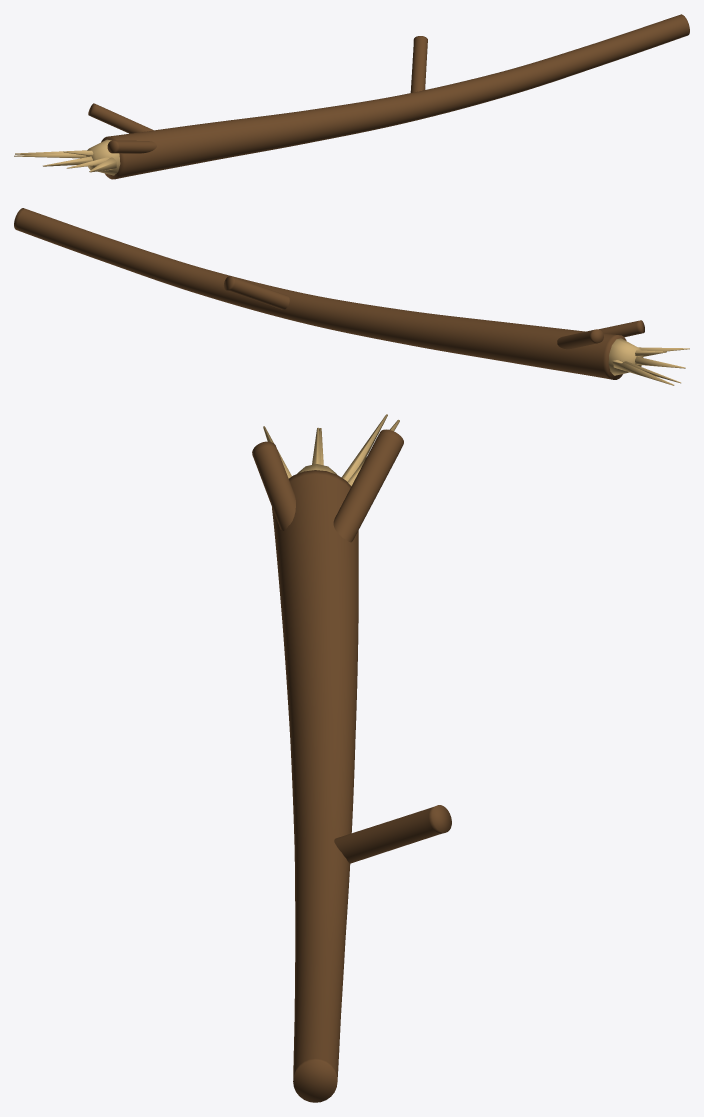
The picture shows the model from 3 angles, top to bottom: view 1: azimuth 30°, elevation 25°; view 2: azimuth 150°, elevation 25°; view 3: azimuth 270°, elevation 25°; orthographic projection. The views are drawn at different scales.
Parts seen in each view (by area): view 1: Shaft, FrayedTip, Branch1, ForkA, ForkB; view 2: Shaft, FrayedTip, Branch1, ForkA, ForkB; view 3: Shaft, Branch1, ForkA, ForkB, FrayedTip.
Boxes of the visible parts, x1,y1,x2,y2 form: Shaft: [101, 14, 689, 179]; FrayedTip: [14, 139, 120, 175]; Branch1: [410, 36, 427, 92]; ForkA: [88, 103, 153, 133]; ForkB: [107, 140, 156, 153]; Shaft: [14, 208, 626, 379]; FrayedTip: [608, 338, 689, 385]; Branch1: [223, 276, 289, 309]; ForkA: [557, 329, 603, 349]; ForkB: [599, 320, 644, 337]; Shaft: [272, 470, 358, 1102]; Branch1: [334, 805, 451, 863]; ForkA: [333, 429, 403, 542]; ForkB: [252, 441, 295, 530]; FrayedTip: [263, 414, 399, 486].
Size of the model in its own units: 0.5921 by 0.0668 by 0.0784.
